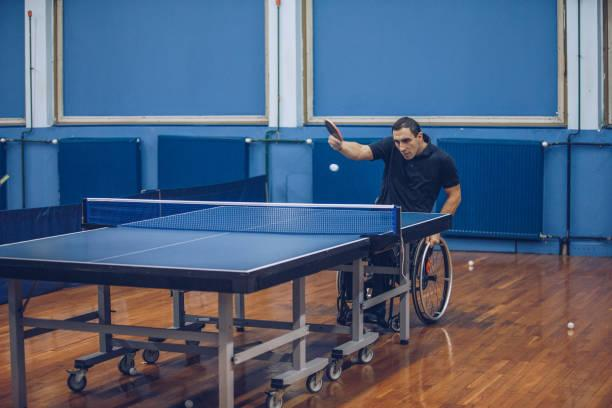ball_pingpong: (328, 161, 341, 173), (566, 319, 576, 329), (244, 136, 253, 144), (469, 259, 476, 267), (542, 140, 549, 148), (52, 139, 59, 143)
